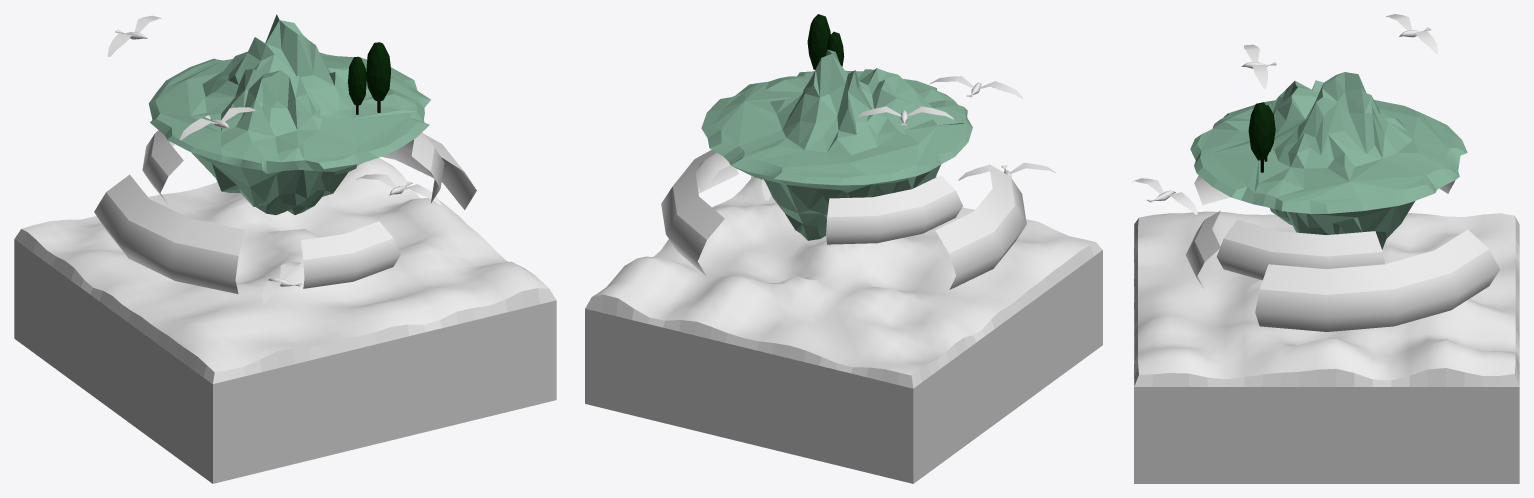
File: windland.FBX
The picture shows the model from 3 angles, left to right: view 1: azimuth 30°, elevation 25°; view 2: azimuth 150°, elevation 25°; view 3: azimuth 270°, elevation 25°; orthographic projection. The views are drawn at different scales.
Visible parts, largest first — view 1: windland, wind_cloud, wind_land, wind_cloud1, windtree (×2), wind_bird004, wind_bird002, wind_bird1, wind_bird003; view 2: wind_cloud, windland, wind_land, wind_cloud1, windtree, wind_bird002, wind_bird1; view 3: wind_cloud, windland, wind_land, wind_cloud1, windtree, wind_bird004, wind_bird002, wind_bird1.
Boxes of the visible parts, <box> form: windland: <box>14,239,556,483</box>; wind_cloud: <box>14,157,555,383</box>; wind_land: <box>148,14,430,215</box>; wind_cloud1: <box>94,130,476,294</box>; windtree (×2): <box>348,42,390,114</box>; wind_bird004: <box>262,261,302,305</box>; wind_bird002: <box>107,15,161,56</box>; wind_bird1: <box>179,107,258,140</box>; wind_bird003: <box>356,174,441,205</box>; wind_cloud: <box>585,178,1102,388</box>; windland: <box>585,250,1102,483</box>; wind_land: <box>701,49,972,240</box>; wind_cloud1: <box>661,150,1026,289</box>; windtree: <box>807,14,830,69</box>; wind_bird002: <box>854,106,953,125</box>; wind_bird1: <box>929,76,1022,98</box>; wind_cloud: <box>1134,211,1519,386</box>; windland: <box>1134,224,1519,483</box>; wind_land: <box>1190,72,1467,249</box>; wind_cloud1: <box>1186,175,1499,331</box>; windtree: <box>1248,102,1273,172</box>; wind_bird004: <box>1132,178,1197,214</box>; wind_bird002: <box>1386,14,1437,54</box>; wind_bird1: <box>1241,44,1276,88</box>.
Size of the model in its own units: 2.62 by 2.49 by 2.64.
